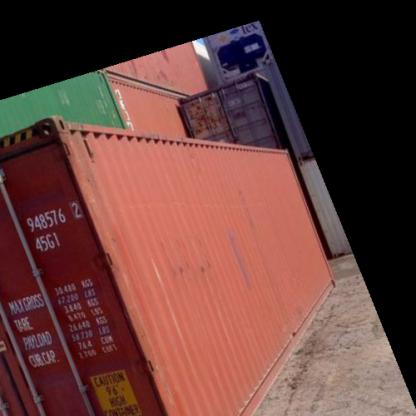Damage: (220, 221, 251, 293), (149, 254, 169, 288), (194, 263, 216, 276)
